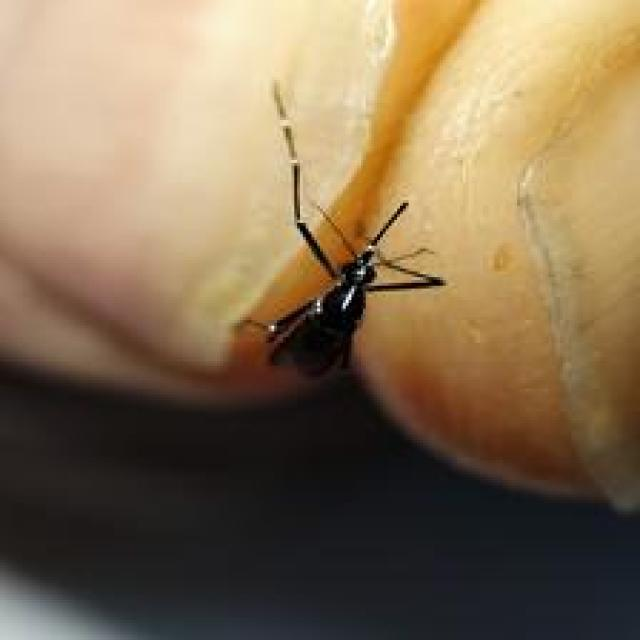Aedes albopictus: (236, 78, 447, 382)
